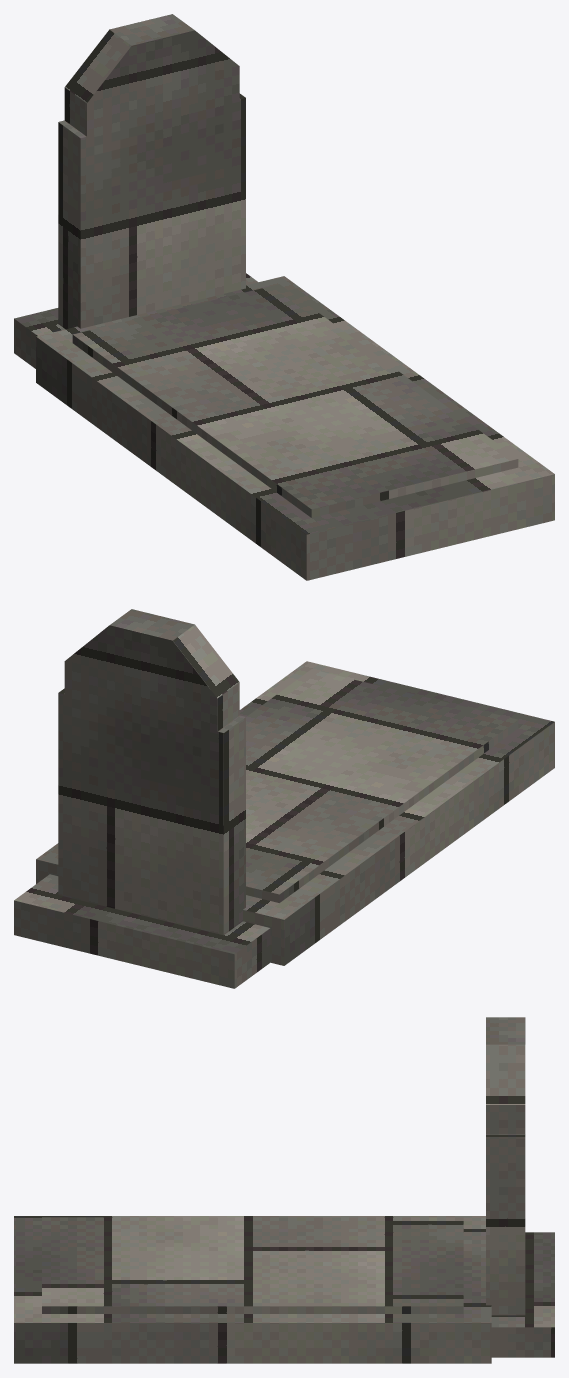
The model's file is tumba.obj.
3 views of the same model, one above another, from view 1: azimuth 30°, elevation 25°; view 2: azimuth 150°, elevation 25°; view 3: azimuth 270°, elevation 25° (orthographic). The views are drawn at different scales.
Visible parts, largest first — view 1: tumba; view 2: tumba; view 3: tumba.
Part boxes in pixels (<box>): tumba: <box>14,14,554,580</box>; tumba: <box>14,609,554,988</box>; tumba: <box>14,1017,554,1363</box>.
Size of the model in its own units: 0.9 by 1.1 by 1.93.
1 material, 1 textured.
